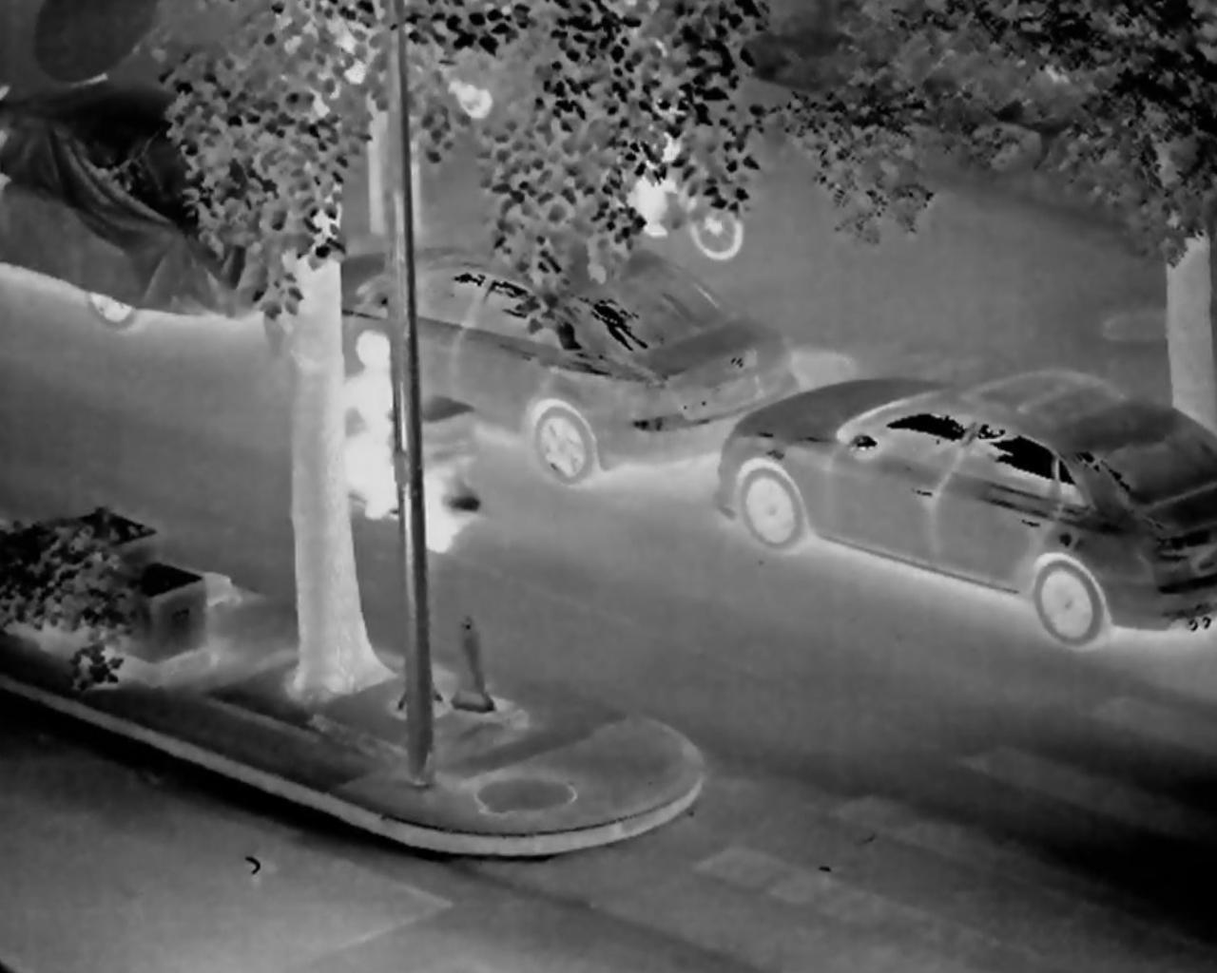person: (336, 329, 414, 528)
